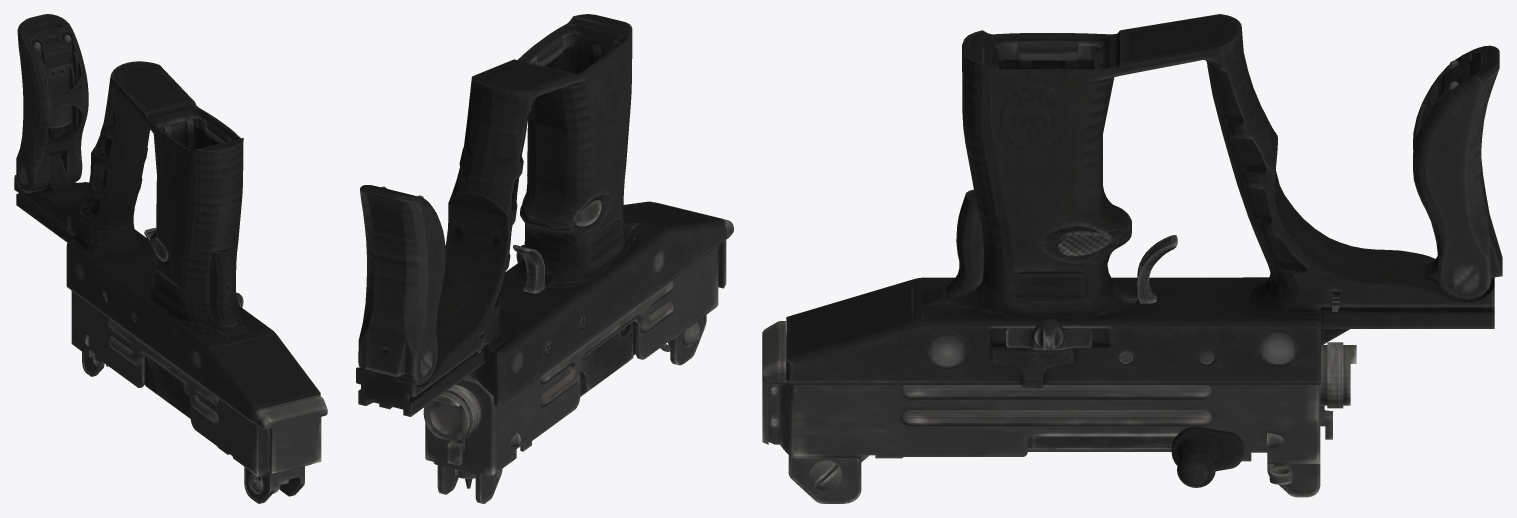
3 renders of one model, left to right at view 1: azimuth 30°, elevation 25°; view 2: azimuth 150°, elevation 25°; view 3: azimuth 270°, elevation 25°, orthographic. The views are drawn at different scales.
Visible parts, largest first — view 1: TW_668e71a8dadf42204c032ce1_PZ_Import; view 2: TW_668e71a8dadf42204c032ce1_PZ_Import; view 3: TW_668e71a8dadf42204c032ce1_PZ_Import.
Boxes of the visible parts, x1,y1,x2,y2 form: TW_668e71a8dadf42204c032ce1_PZ_Import: (14,14,327,503); TW_668e71a8dadf42204c032ce1_PZ_Import: (356,14,733,503); TW_668e71a8dadf42204c032ce1_PZ_Import: (762,14,1502,503).
Size of the model in its own units: 0.0375 by 0.1589 by 0.11.
Materials: 1 (1 with a texture image).
